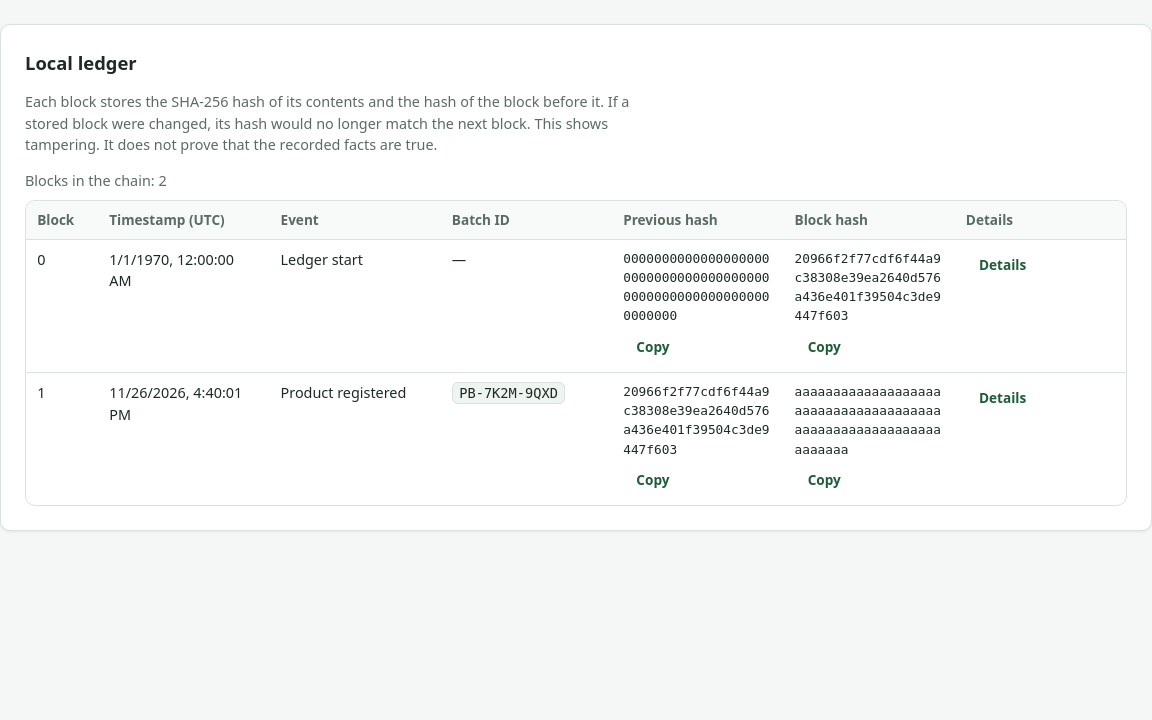
Test case: LedgerView hashes and count › copies a full block hash with its copy button
Click the button with aria-label "Copy block hash of block 1". click: click(824, 480)
box: [794, 464, 854, 497]
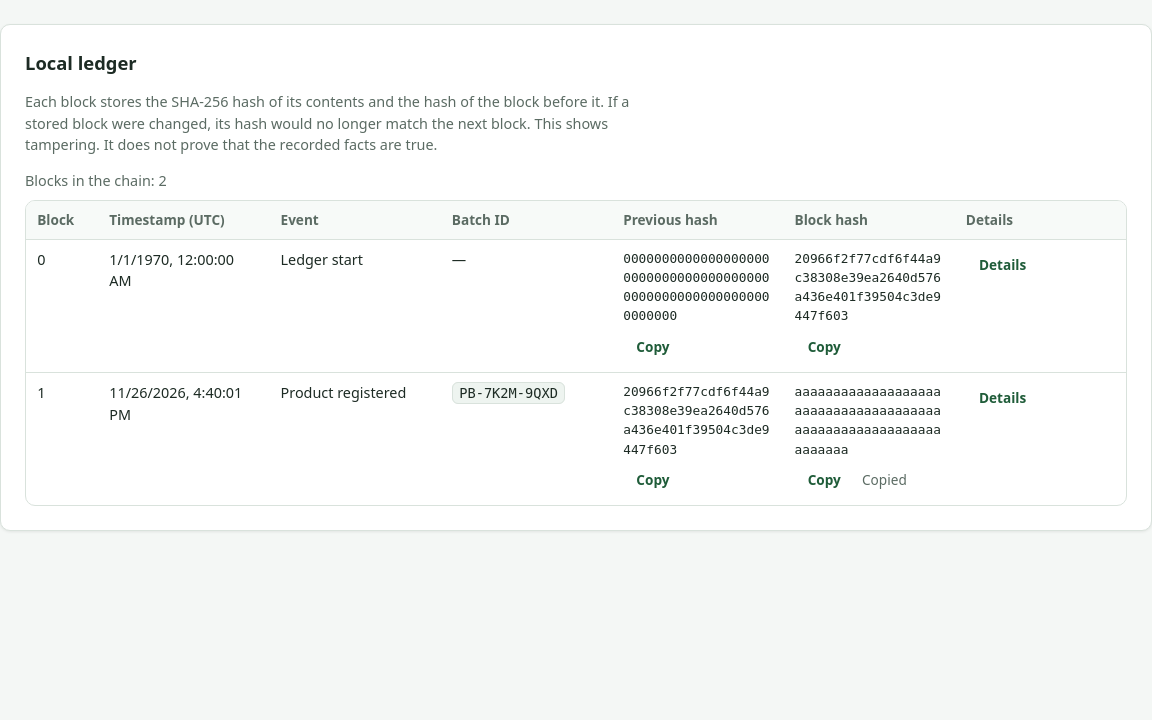
Expected: the text "Copied" is shown, [862, 470, 907, 491]
